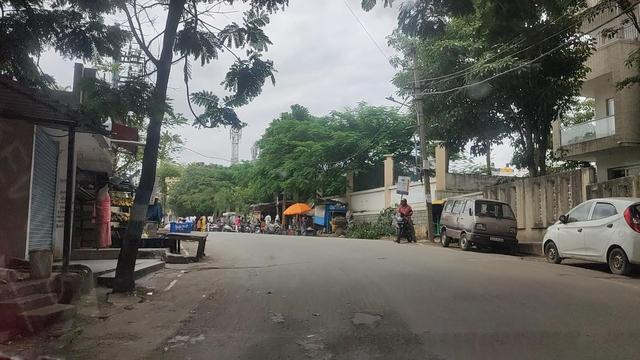RoadDamages: (291, 302, 385, 360)
